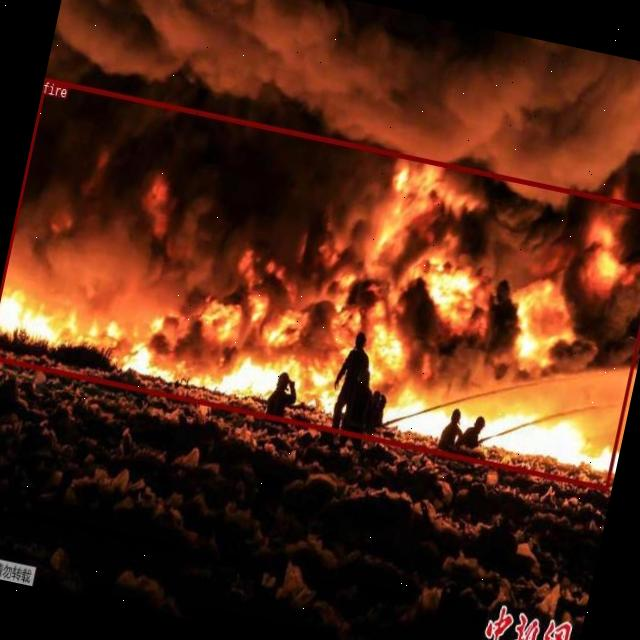fire: (0, 76, 640, 489)
